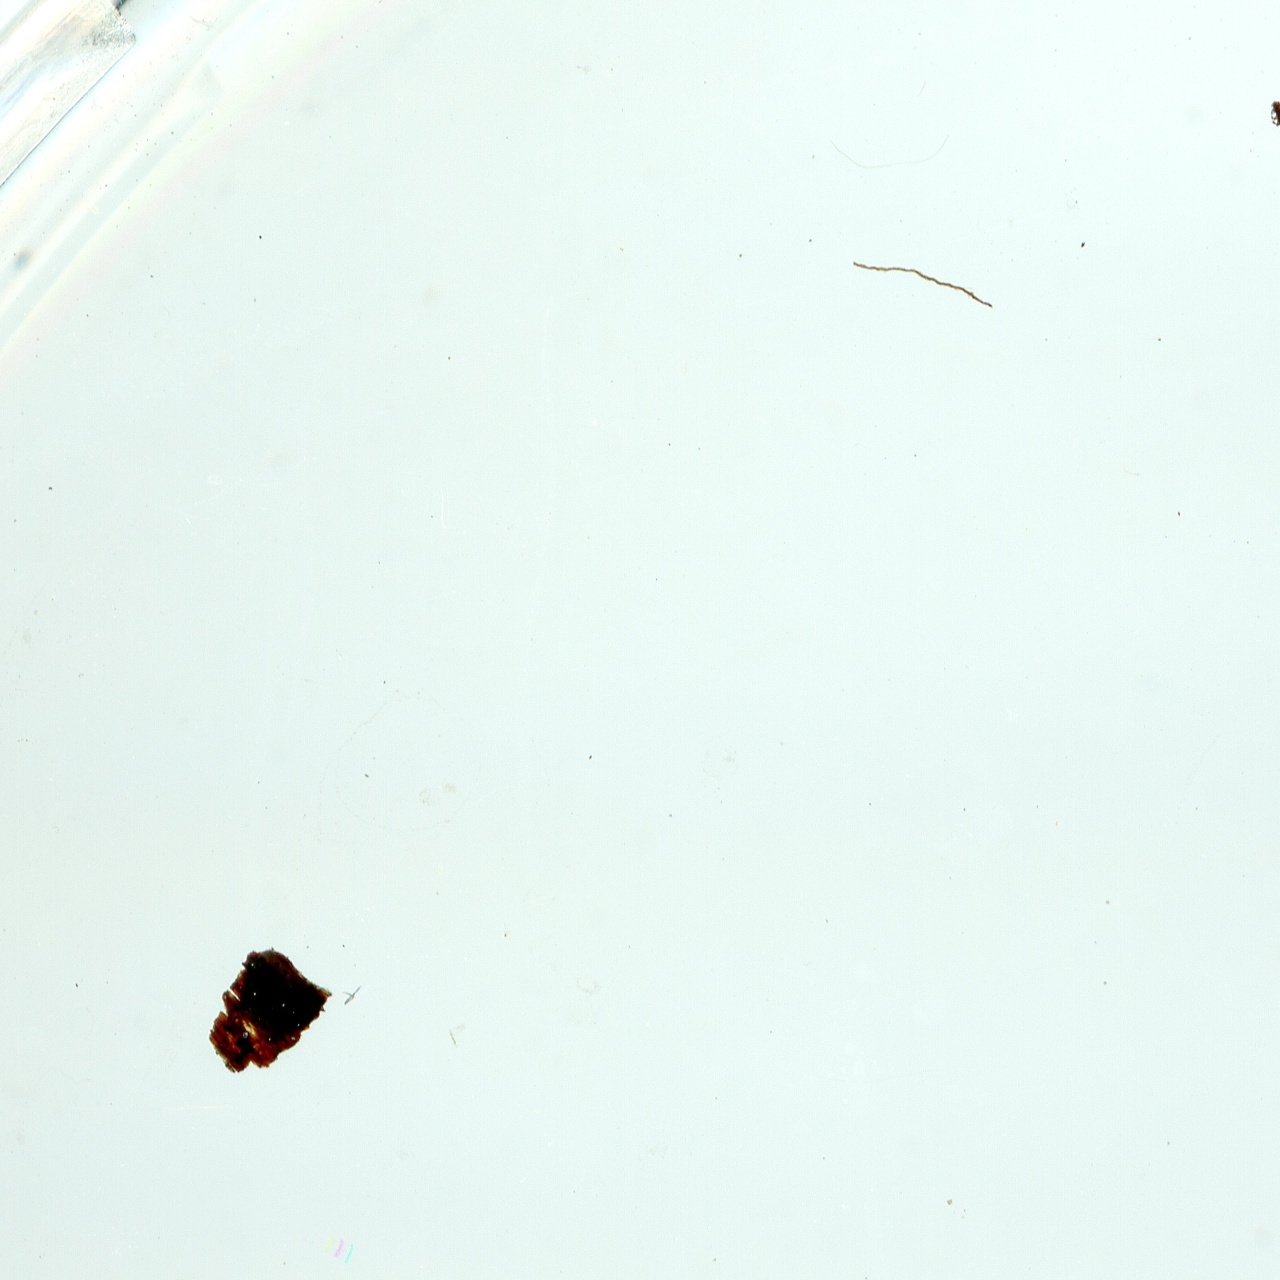arthropod: (1267, 98, 1280, 141)
